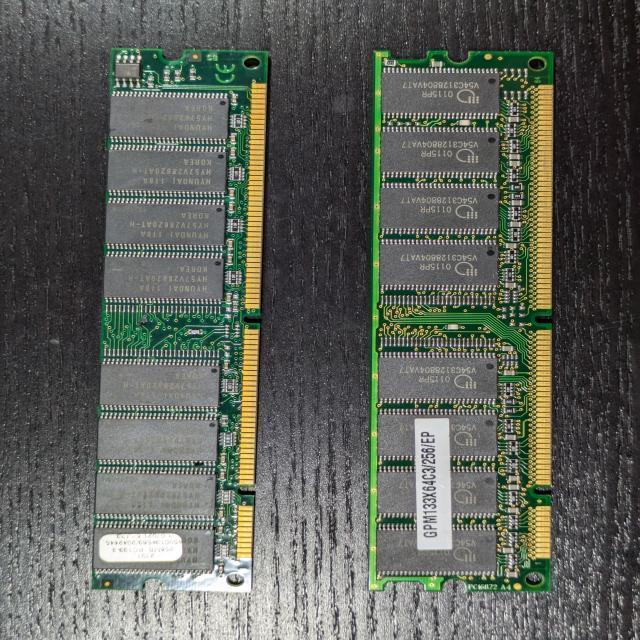RAM: (368, 51, 556, 594), (90, 44, 269, 591)
